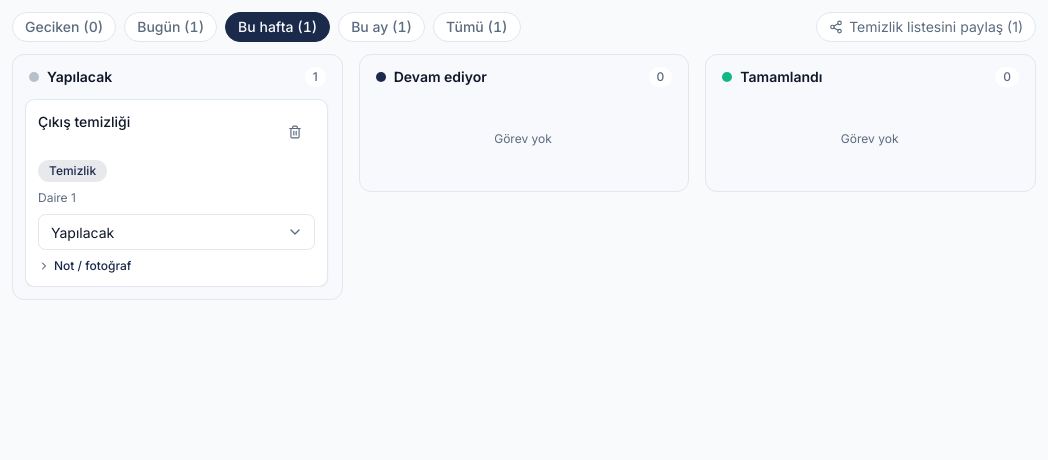
Test case: TaskBoard — not kaydı görünür ve etiketli › başarısız kayıtta yazılan not KAYBOLMAZ ve hata görünür
Click the button "Not / fotoğraf" at (85, 266), box [38,252,131,280]
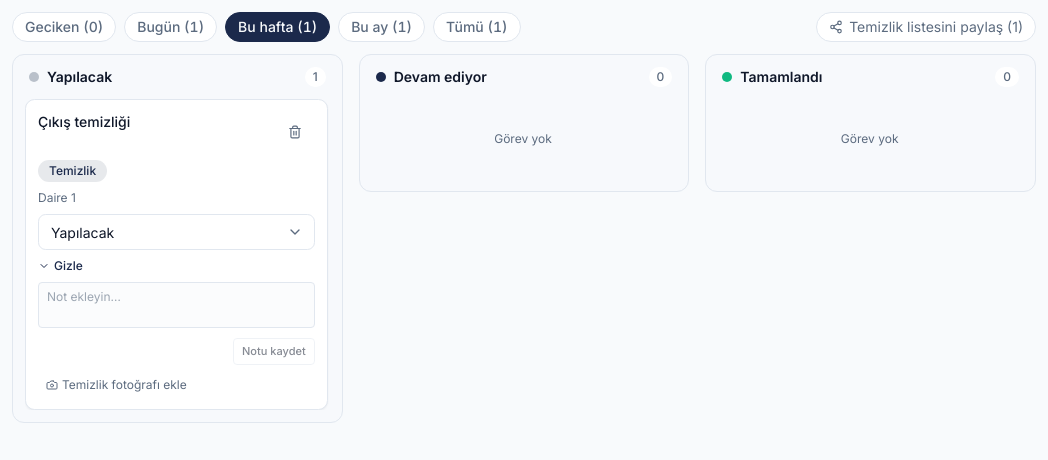
Type "Kaybolmasın" into the text box named "Görev notu" at (176, 305), box [38,282,315,328]
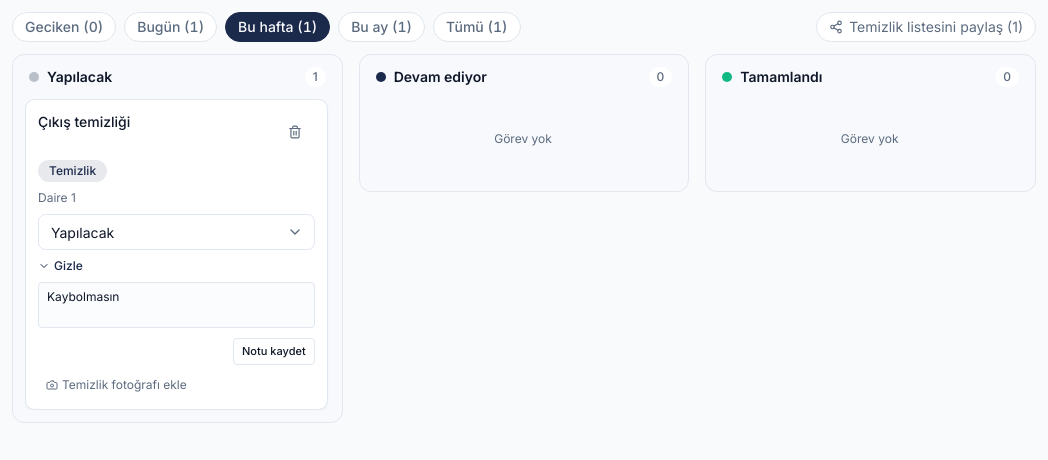
Click the button "Notu kaydet" at (274, 351), box [233,338,315,364]
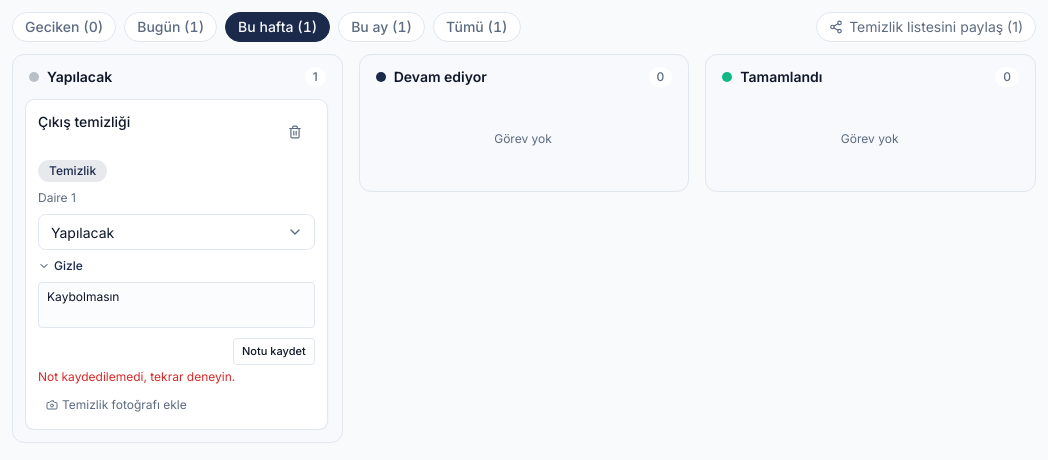
Check: the text "Not kaydedilemedi, tekrar deneyin." is shown, box [38,368,235,384]
